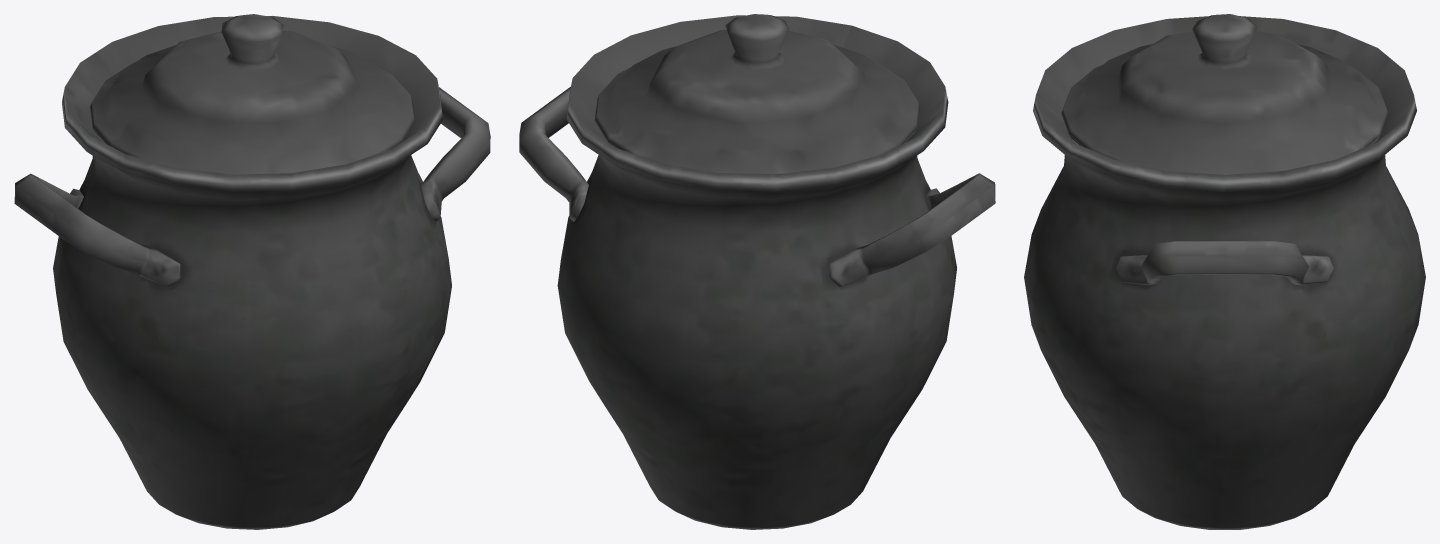
3 renders of one model, left to right at view 1: azimuth 30°, elevation 25°; view 2: azimuth 150°, elevation 25°; view 3: azimuth 270°, elevation 25°, orthographic.
Bounding box in the file's own units: 7.19 × 7.56 × 5.87.
Materials: 1 (1 with a texture image).
